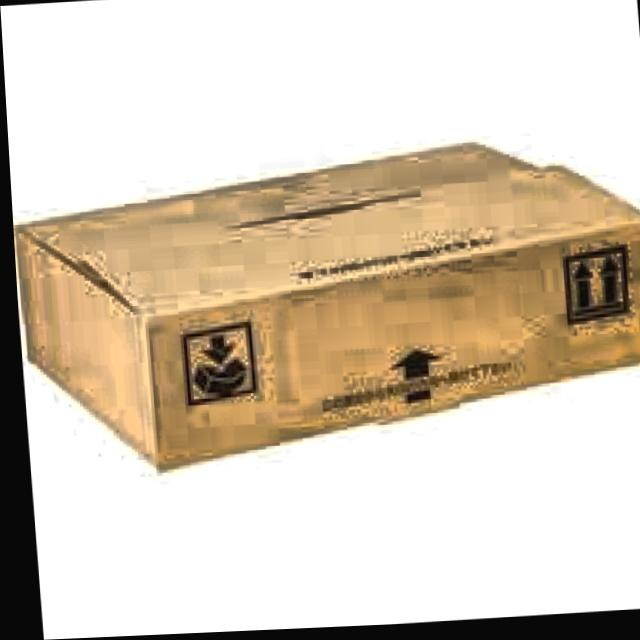Cardbox: (7, 122, 640, 494)
